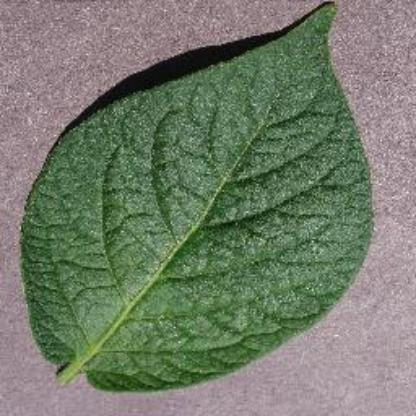Healthy-plant: (14, 2, 390, 396)
